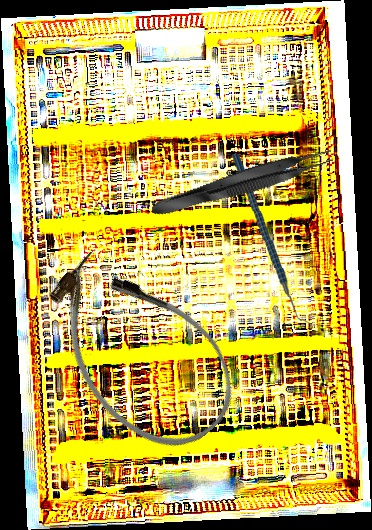Cannula: (20, 227, 259, 475)
Chopper: (231, 151, 313, 328)
Tissue Forceps: (148, 142, 336, 223)
